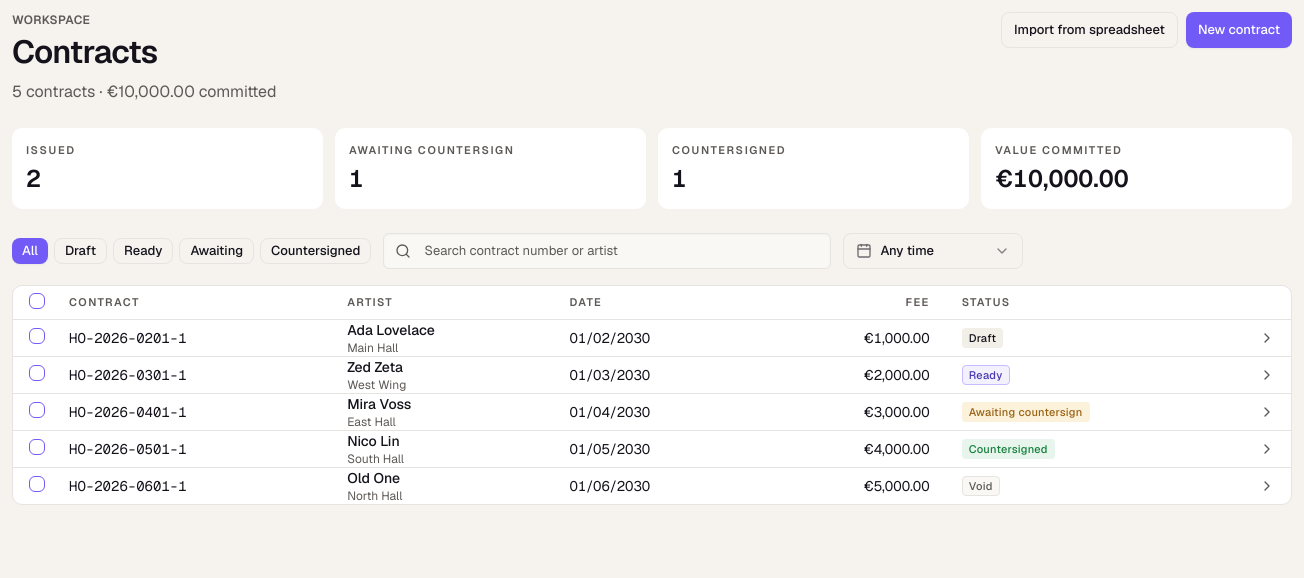
Test: HireOrdersPage › enables the bulk bar on row selection and disables Issue selected unless every selected row is draft/ready
Expected: the text "HO-2026-0201-1" is shown, [69,329,187,347]
Click the checkbox named "select contract ho-2026-0201-1": (37, 336) [29,328,45,344]
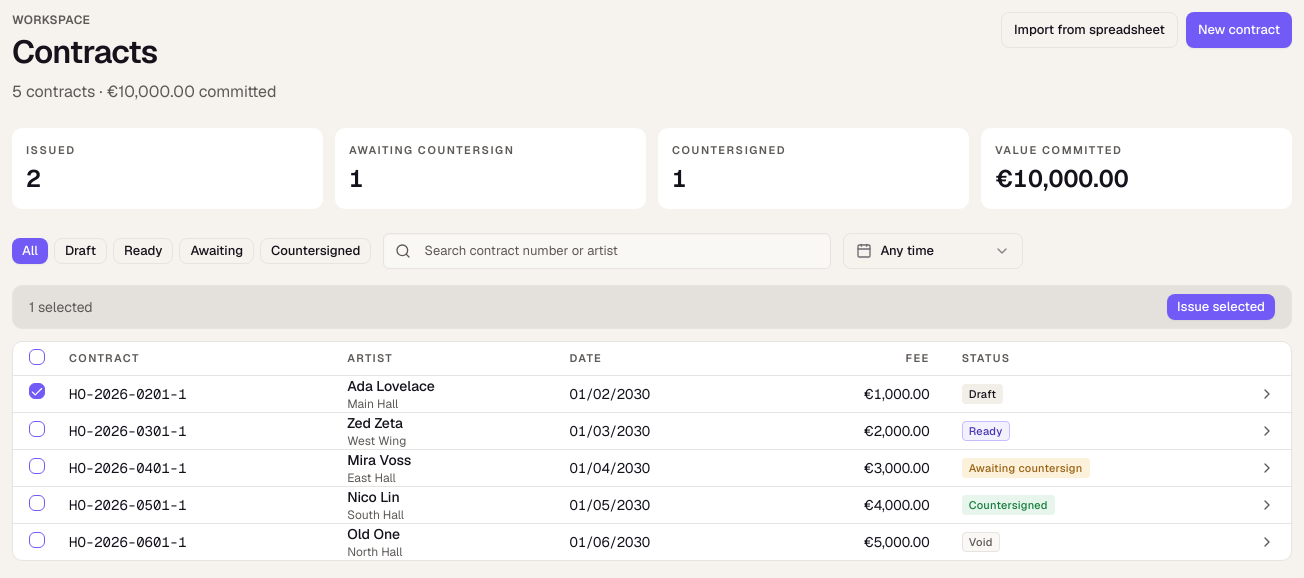
Click the checkbox named "select contract ho-2026-0401-1": (37, 466) [29,458,45,474]
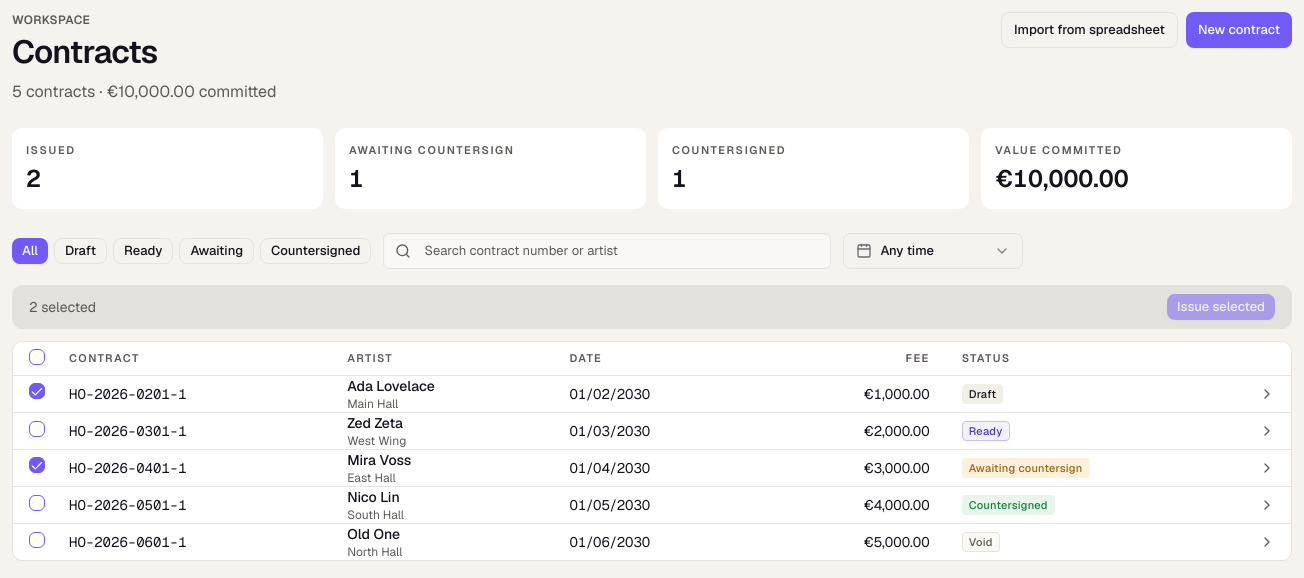
Expected: the button "Issue selected" is disabled, [1167,294,1275,320]
